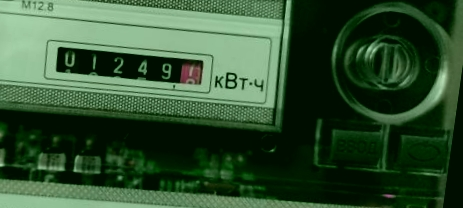0: (62, 47, 77, 69)
1: (86, 51, 99, 71)
2: (110, 54, 126, 75)
4: (135, 56, 149, 77)
7: (183, 58, 198, 78)
9: (158, 60, 173, 82)
screen: (34, 31, 214, 99)
